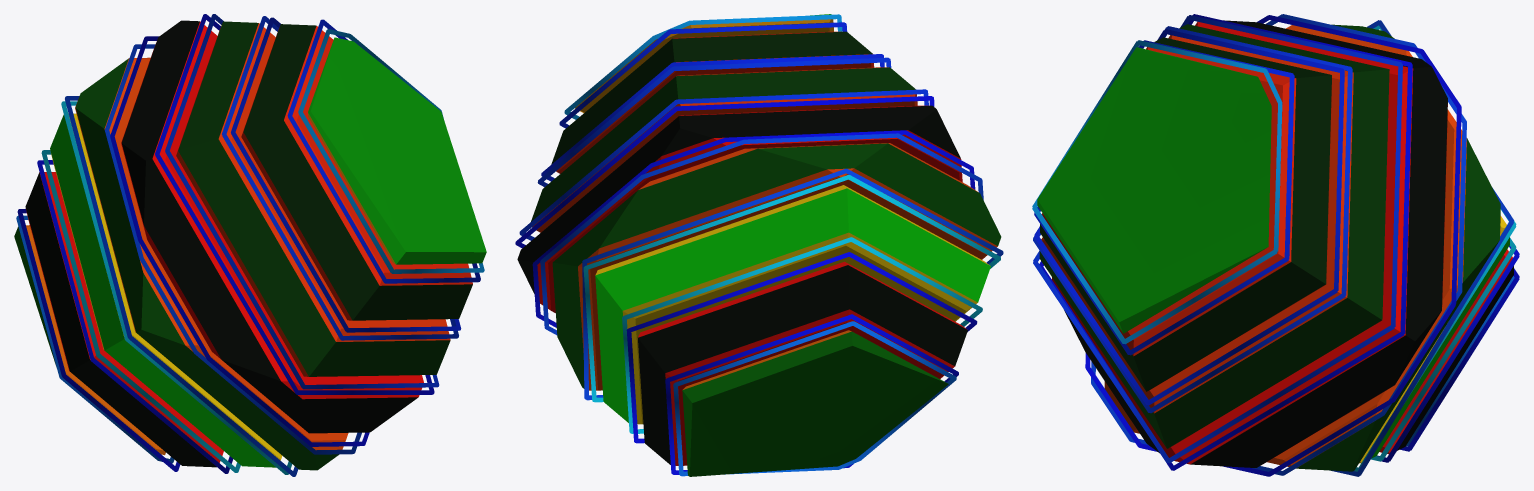
The model's file is FX_Mesh_Dodecahedron_A_Hirez.fbx.
3 views of the same model, side by side, from view 1: azimuth 30°, elevation 25°; view 2: azimuth 150°, elevation 25°; view 3: azimuth 270°, elevation 25° (orthographic). The views are drawn at different scales.
Visible parts, largest first — view 1: Dodecahedron_A_Hirez; view 2: Dodecahedron_A_Hirez; view 3: Dodecahedron_A_Hirez.
Boxes of the visible parts, x1,y1,x2,y2 form: Dodecahedron_A_Hirez: (14,14,486,476); Dodecahedron_A_Hirez: (515,14,1003,476); Dodecahedron_A_Hirez: (1032,14,1519,476).
Size of the model in its own units: 1184 by 1189 by 1223.
